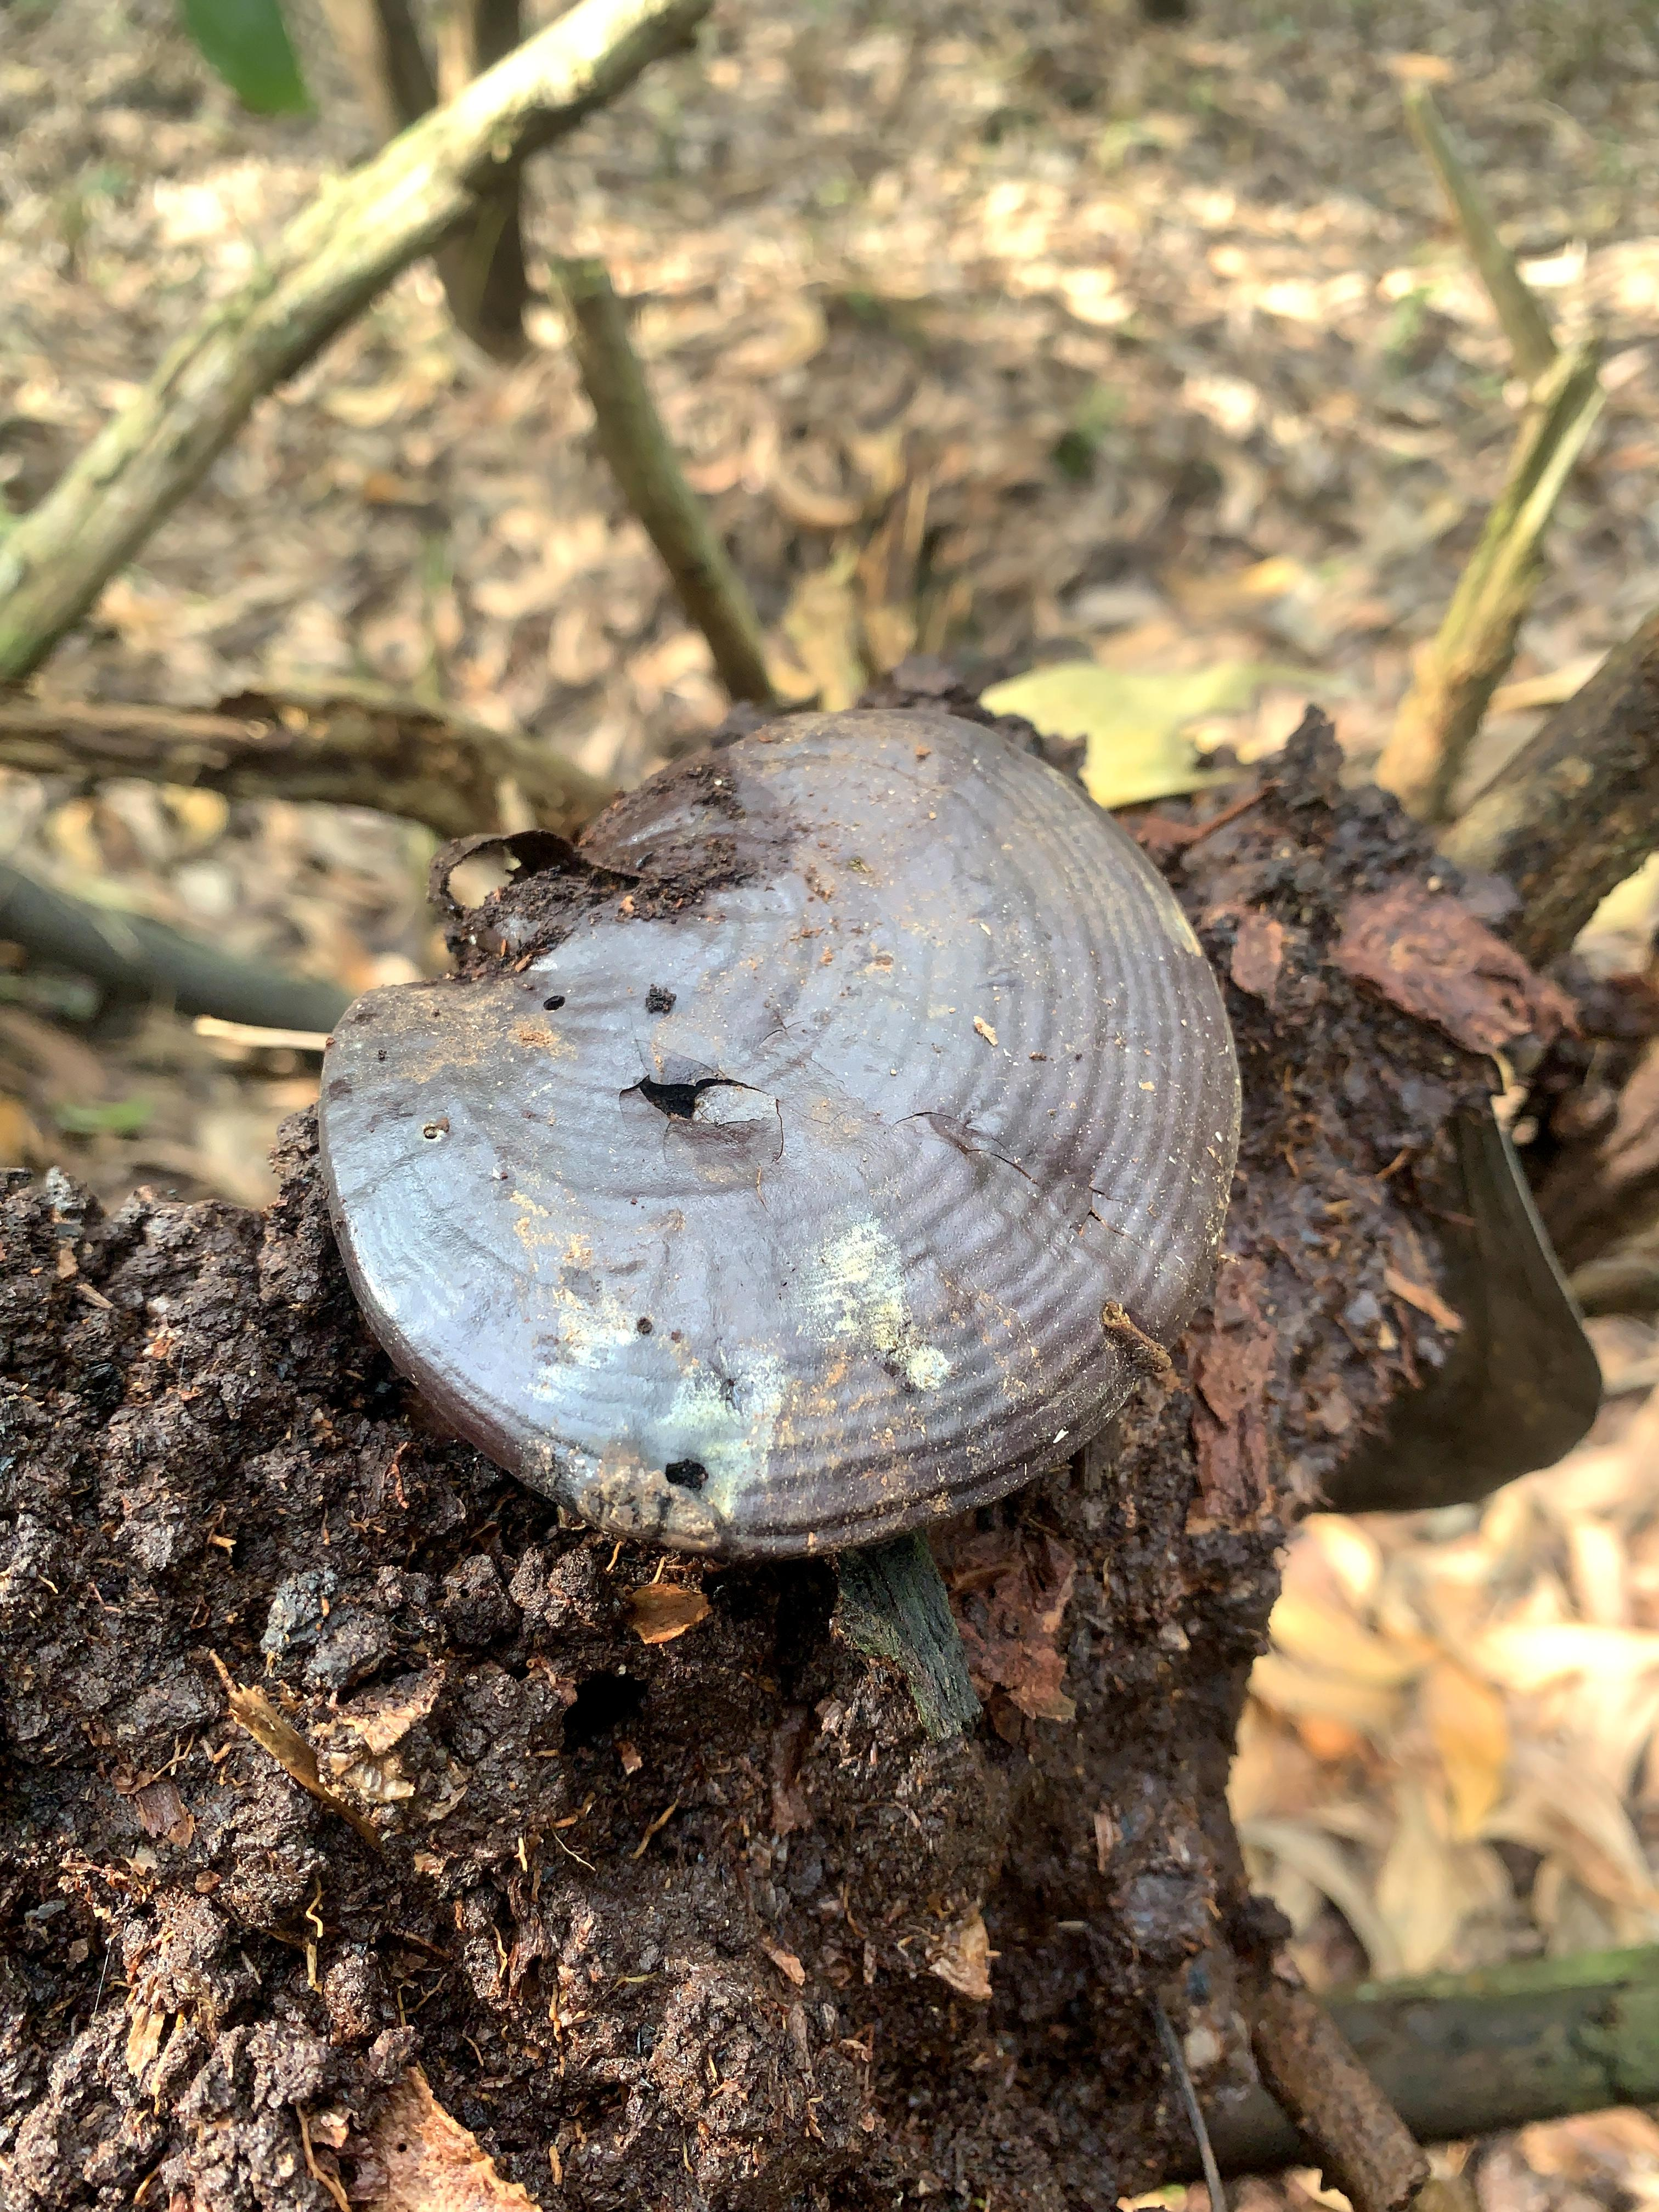Ganoderma - Fruit Body: (284, 665, 1307, 1575)
